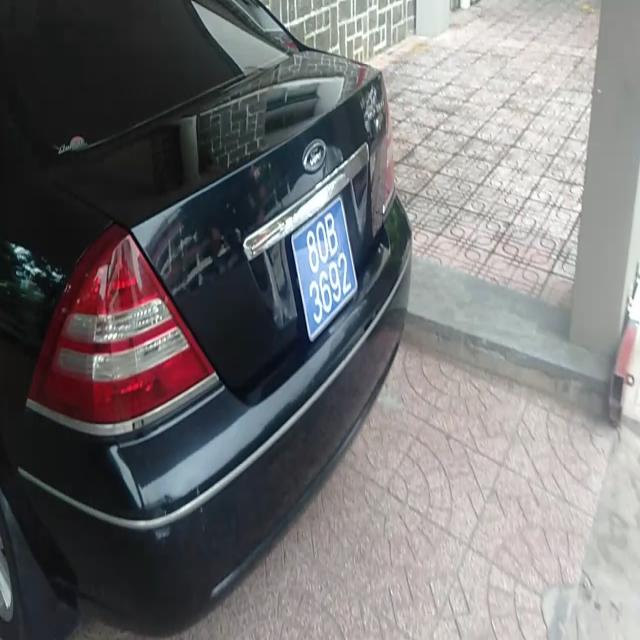bien_xanh: (290, 196, 357, 344)
